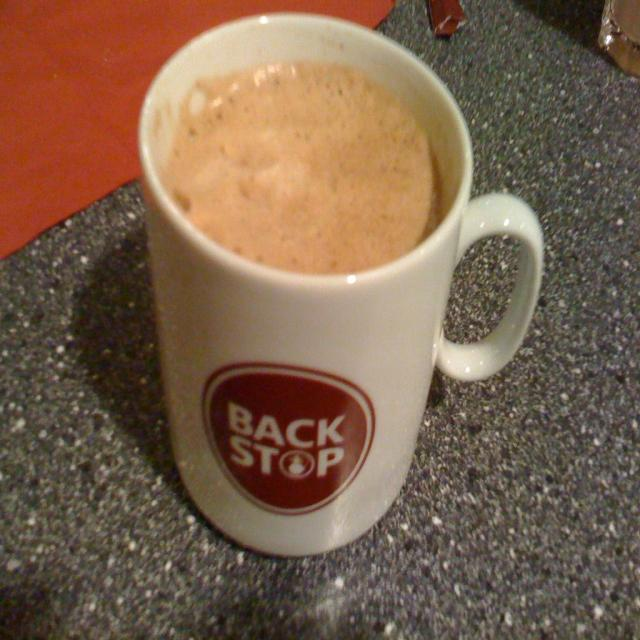Coffee: (158, 57, 438, 269)
